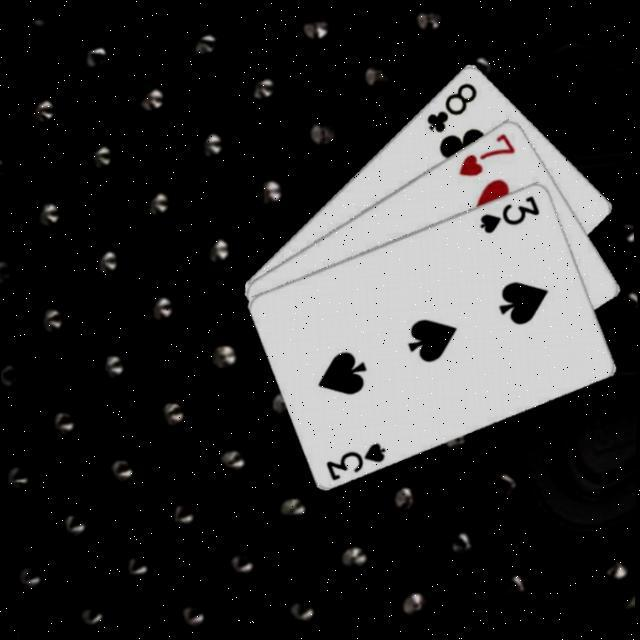3S: (476, 190, 545, 236), (323, 437, 392, 482)
7H: (454, 128, 522, 180)
8C: (422, 76, 484, 135)
